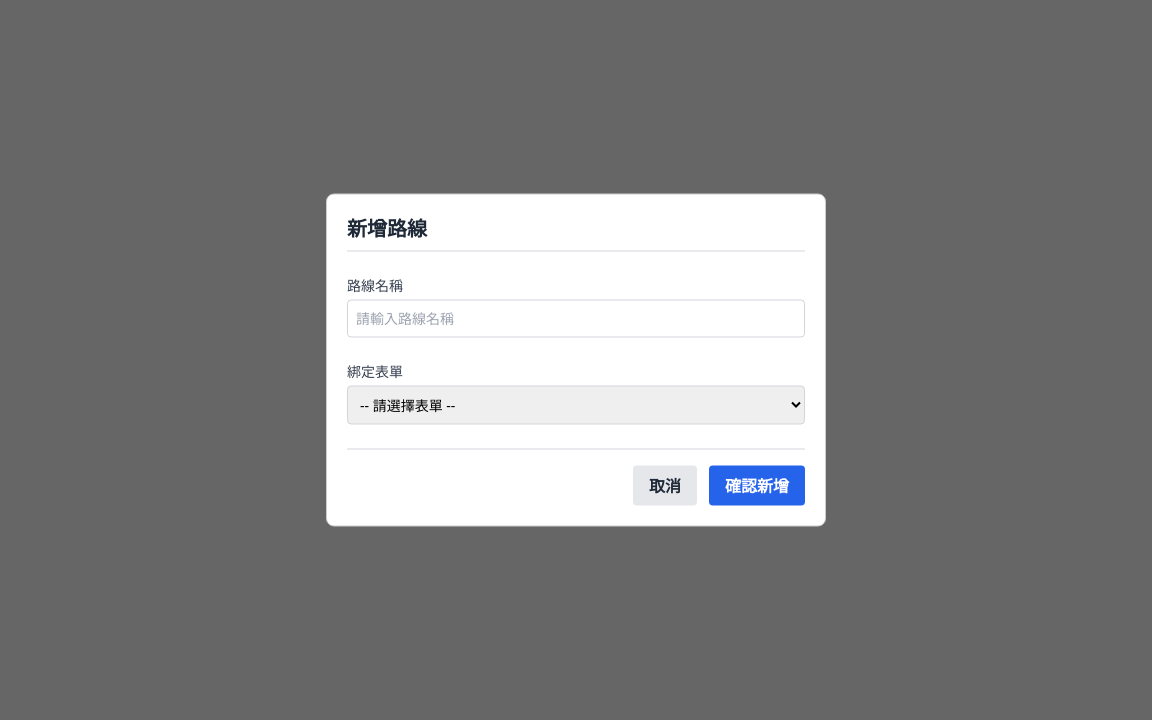
Scenario: CreateRouteModal Component › 新增路線功能 › 應該處理新增失敗
The image size is (1152, 720).
// 填寫並提交表單 
Type "重複路線名稱" into the field labelled "路線名稱" at (576, 318), box [347,300,805,338]
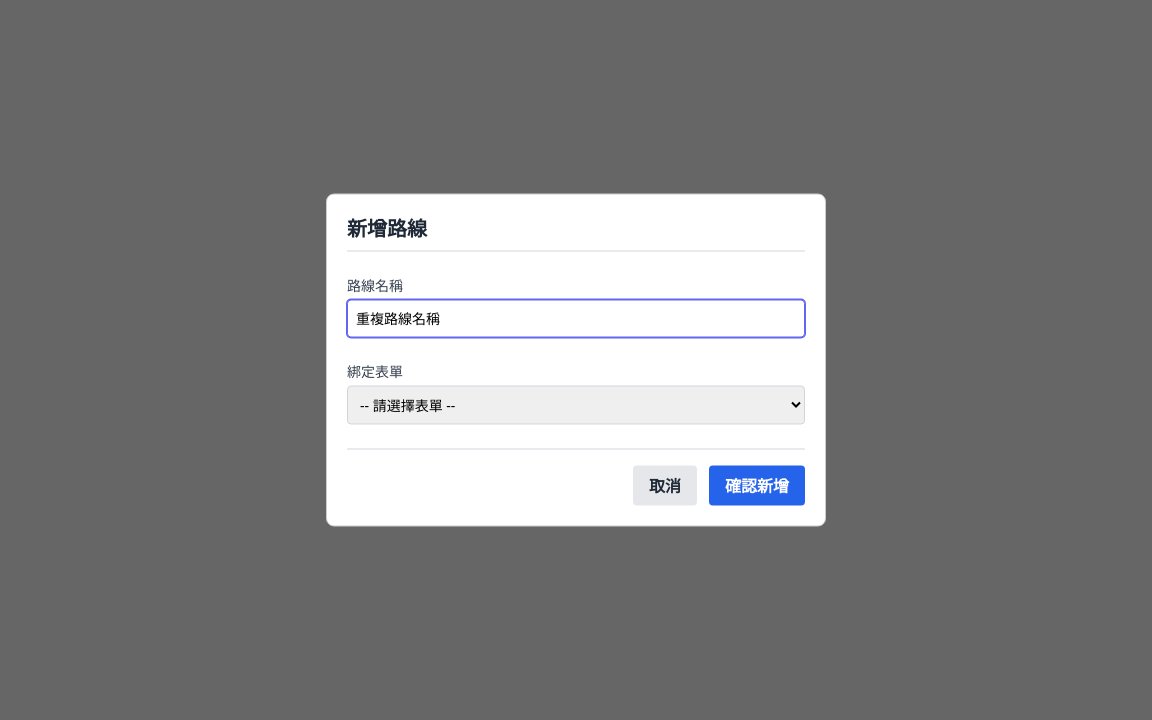
Select "測試表單1" in the dropdown labelled "綁定表單" at (576, 405), box [347,386,805,424]
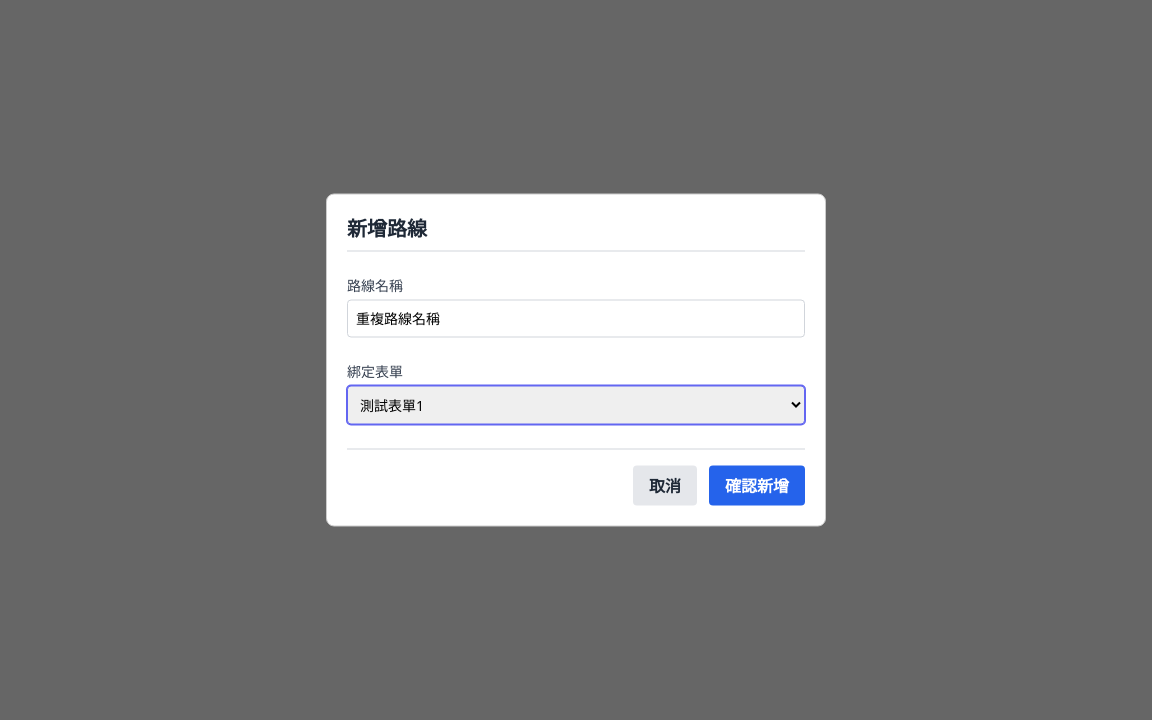
Click the button "確認新增" at (757, 486), box [709,466,805,506]
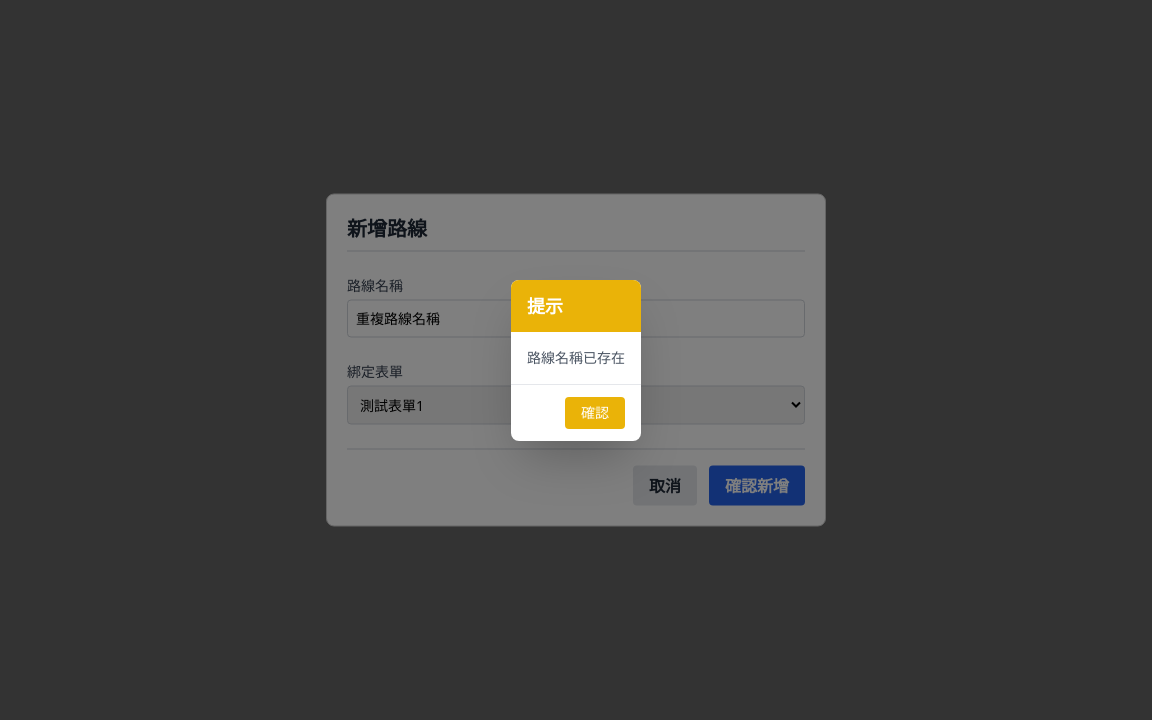
Now the text "路線名稱已存在" is shown, box [527,348,625,368]
